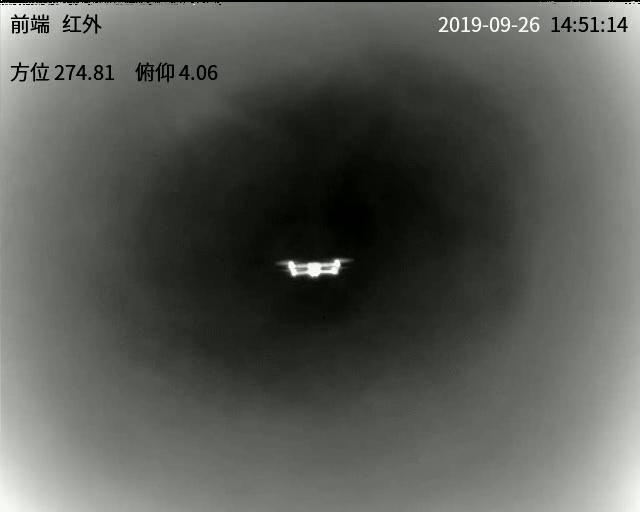DRONE: (282, 256, 347, 277)
